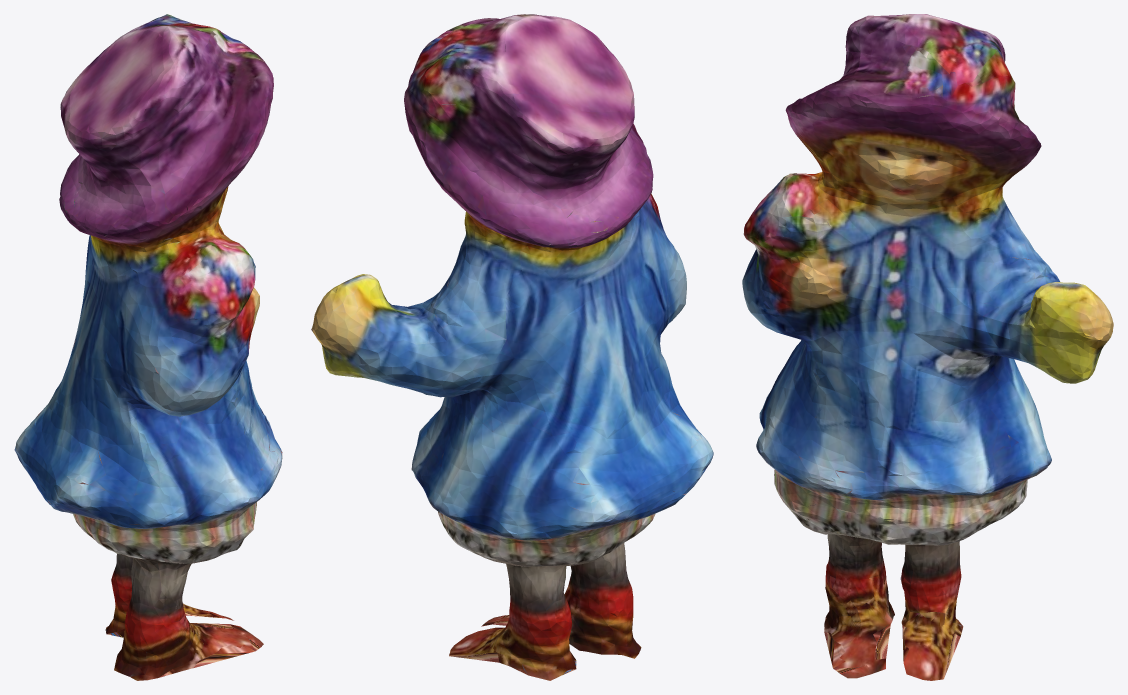
File: victim.dae
3 views of the same model, side by side, from view 1: azimuth 30°, elevation 25°; view 2: azimuth 150°, elevation 25°; view 3: azimuth 270°, elevation 25° (orthographic). The views are drawn at different scales.
Parts seen in each view (by area): view 1: mesh1_001; view 2: mesh1_001; view 3: mesh1_001.
Part boxes in pixels (bbox=[...]): mesh1_001: bbox=[14, 14, 282, 680]; mesh1_001: bbox=[311, 14, 713, 680]; mesh1_001: bbox=[742, 14, 1113, 680].
Size of the model in its own units: 0.2018 by 0.2408 by 0.4553.
Materials: 1 (1 with a texture image).
